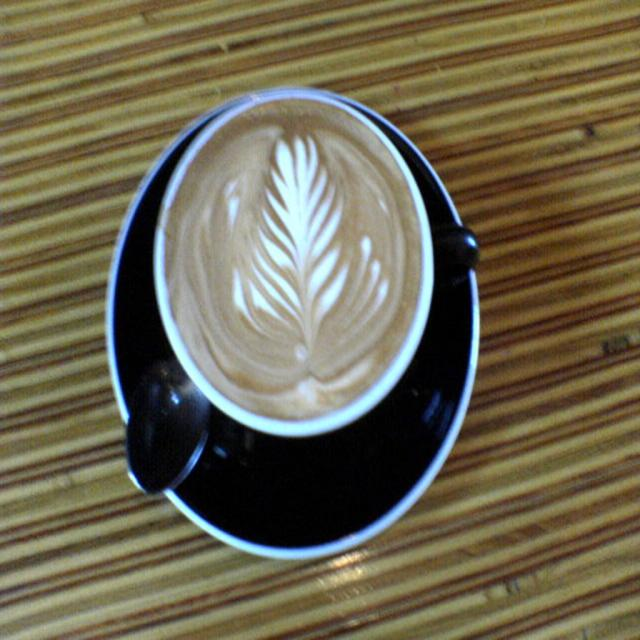Coffee: (139, 97, 470, 516)
